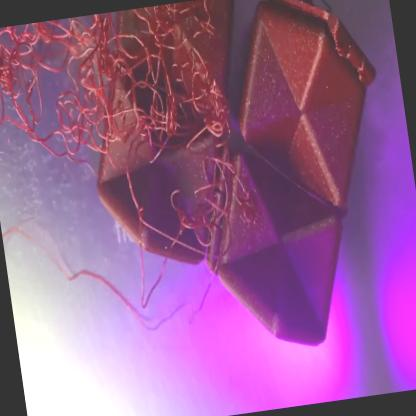fail: (1, 15, 110, 160)
